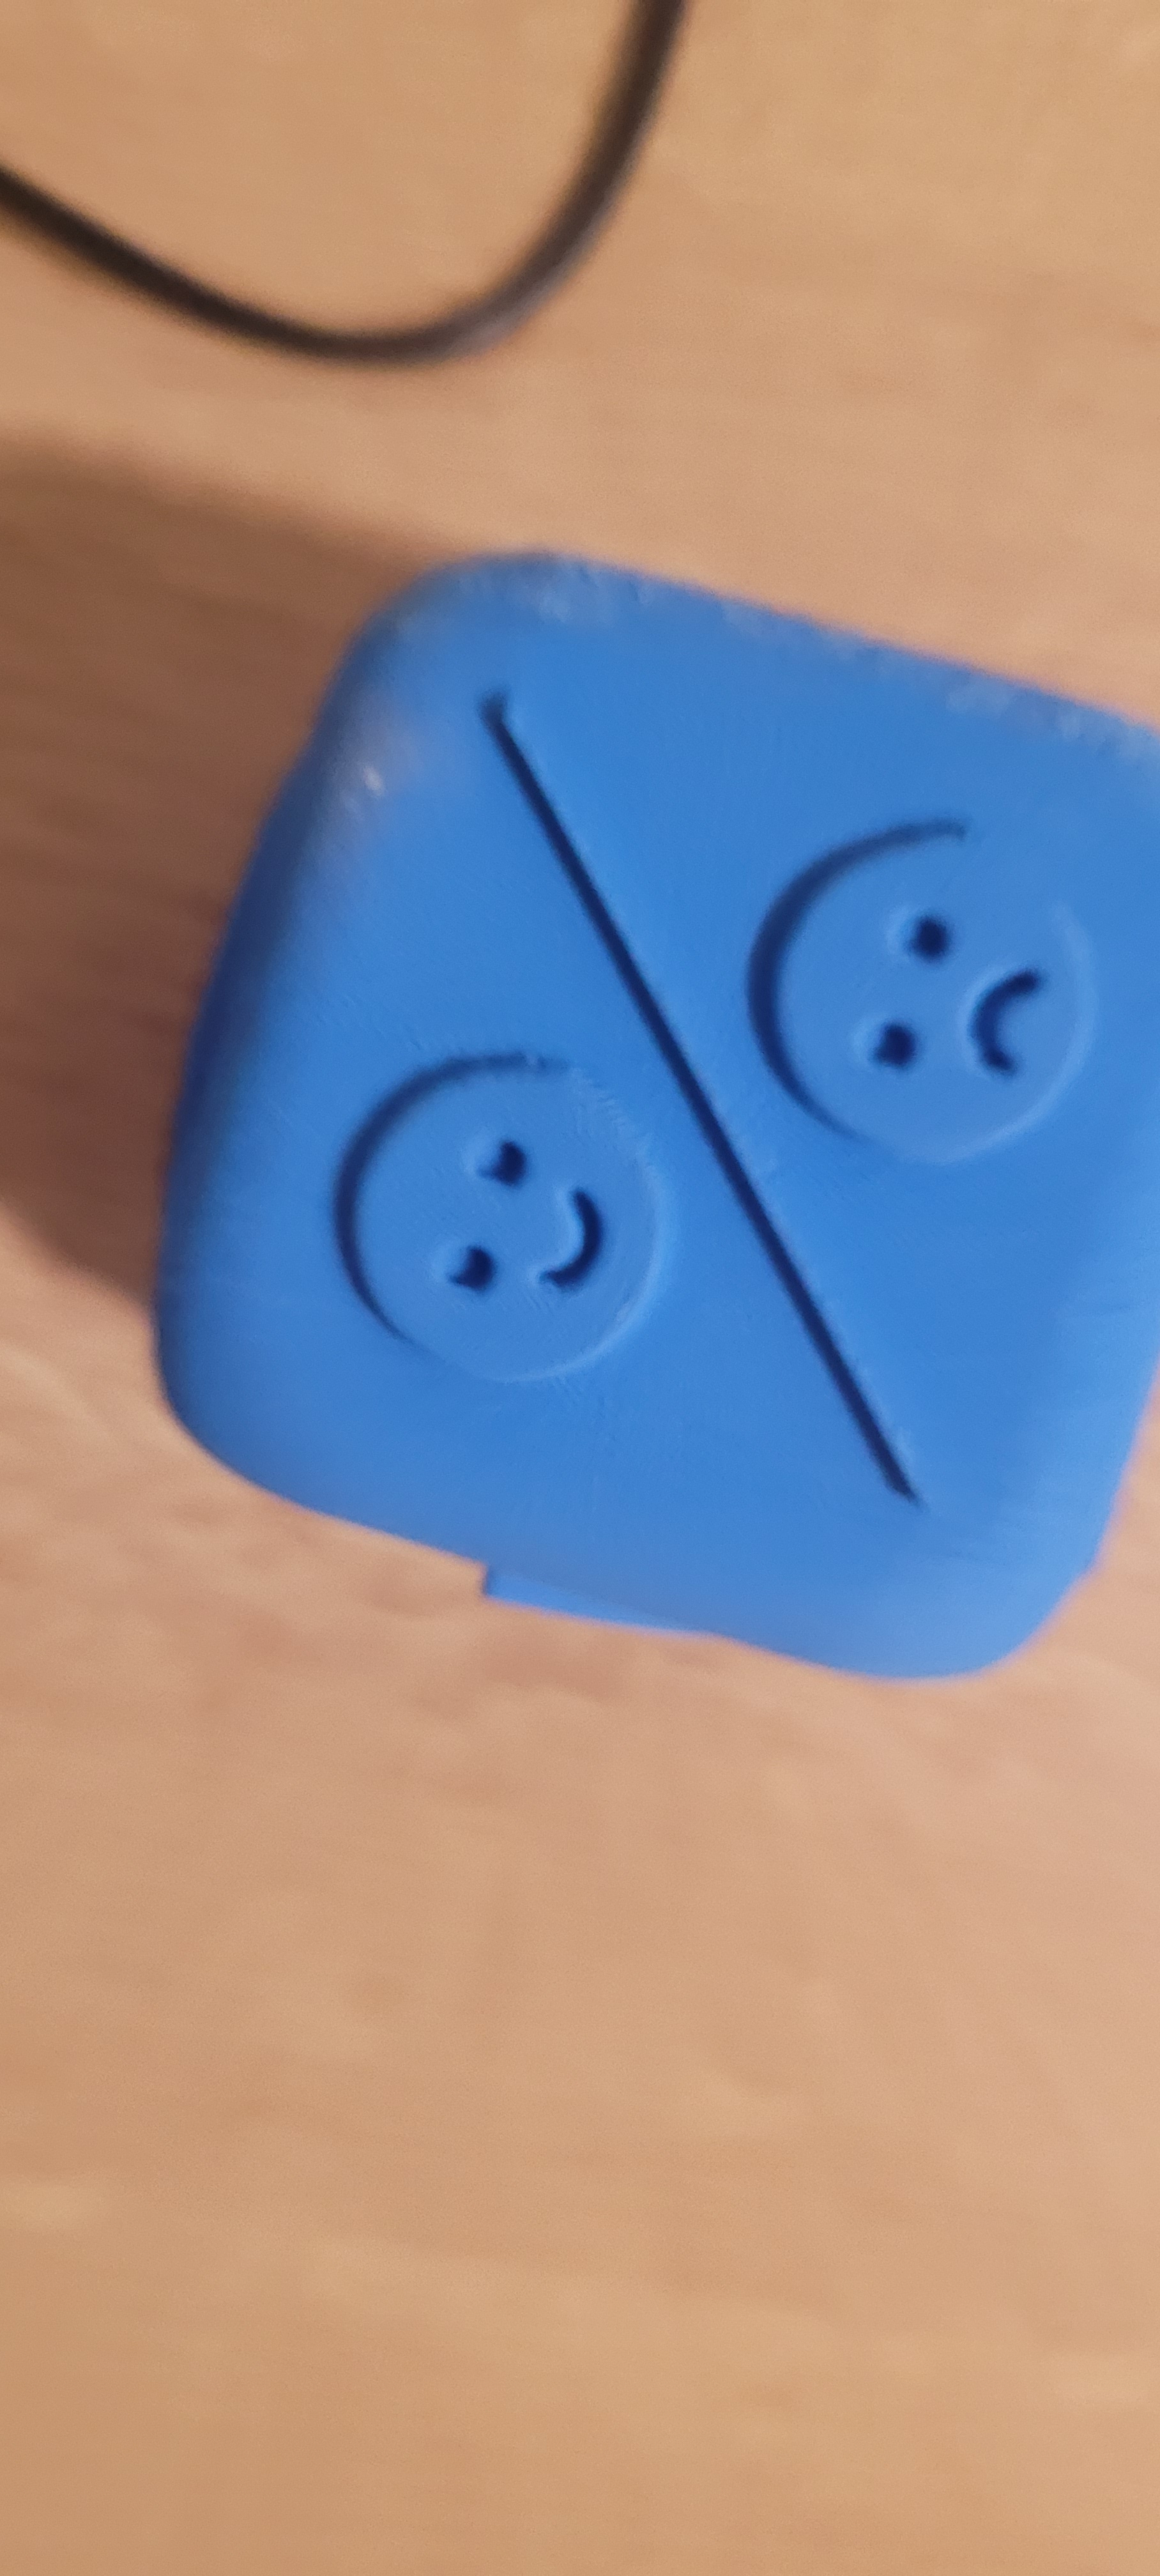Like/Dislike: (268, 559, 1116, 1562)
